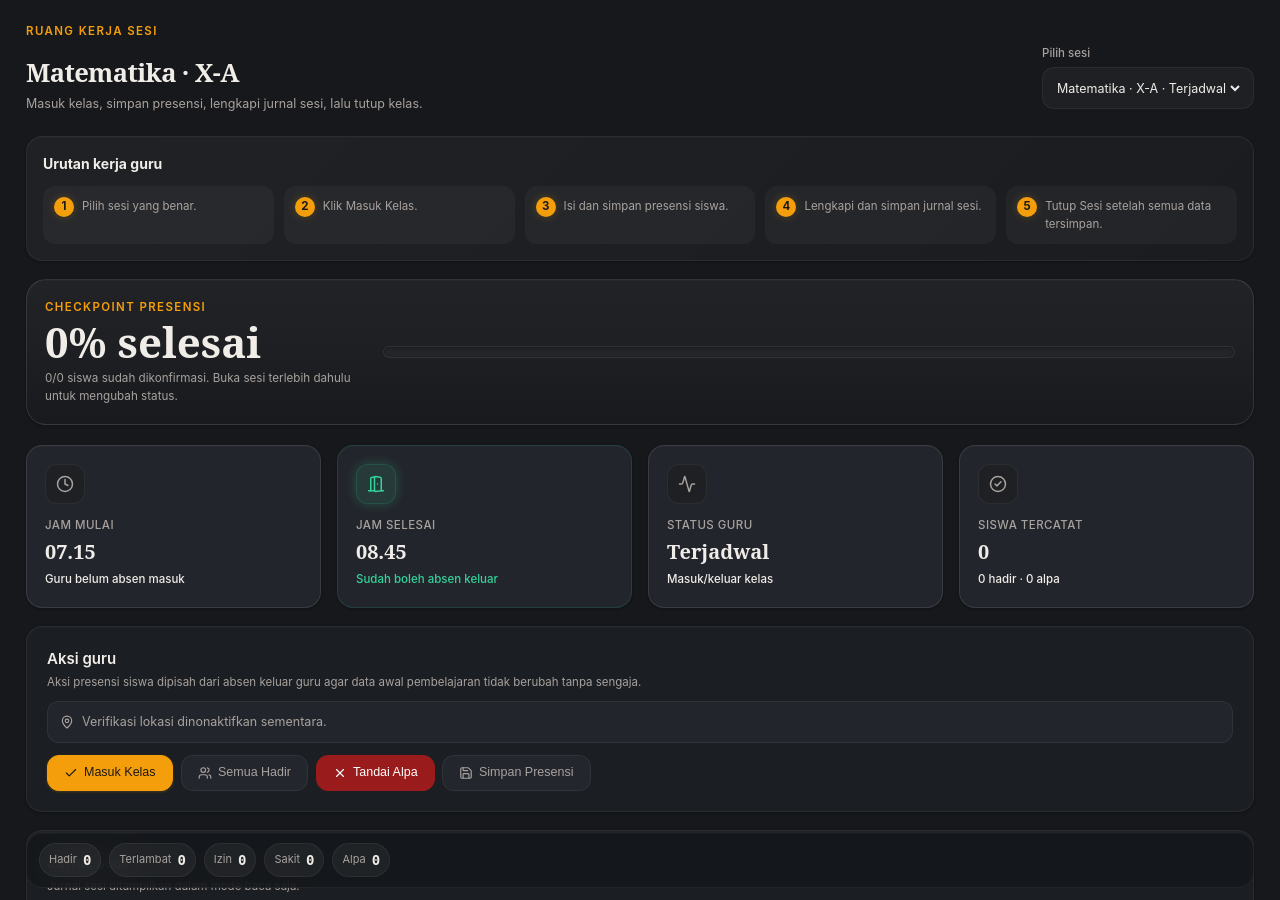
Test case: guru session journal workspace › meminta GPS dan menampilkan indikator saat geofence aktif
Click the button "Masuk Kelas" at (110, 773), box [47,755,173,791]
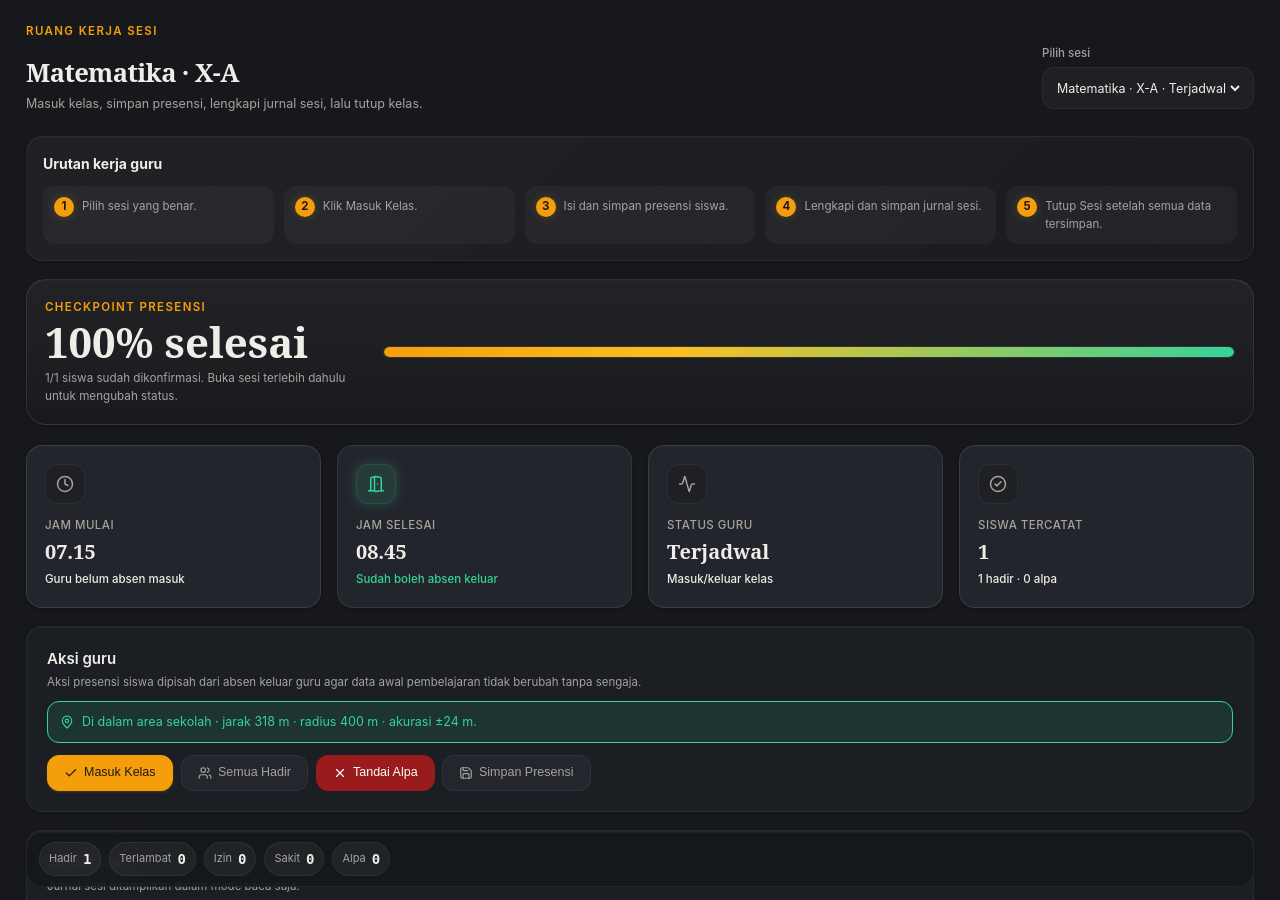
Result: the text "Di dalam area sekolah · jarak 318 m · radius 400 m · akurasi ±24 m" is shown at [82,714,477,729]
